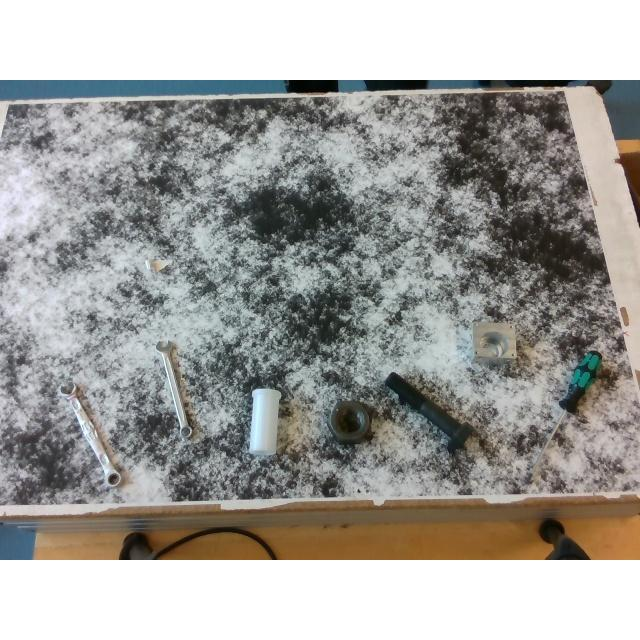M20_100: (384, 372, 472, 452)
M30: (330, 401, 370, 443)
Screwdriver: (525, 351, 601, 483)
Spacer: (248, 388, 280, 456)
Wrench: (58, 382, 122, 486)
